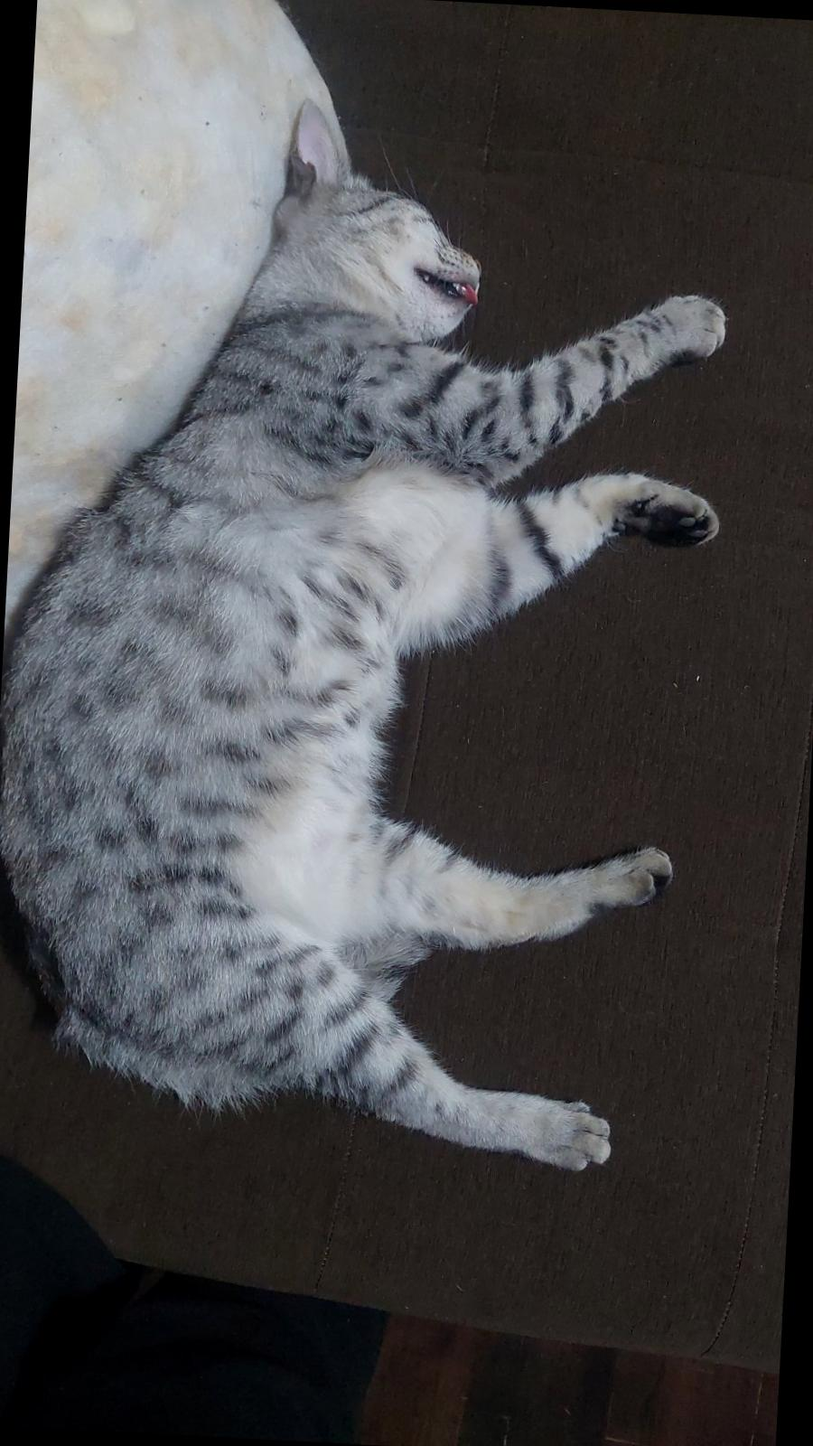macka: (0, 86, 742, 1183)
